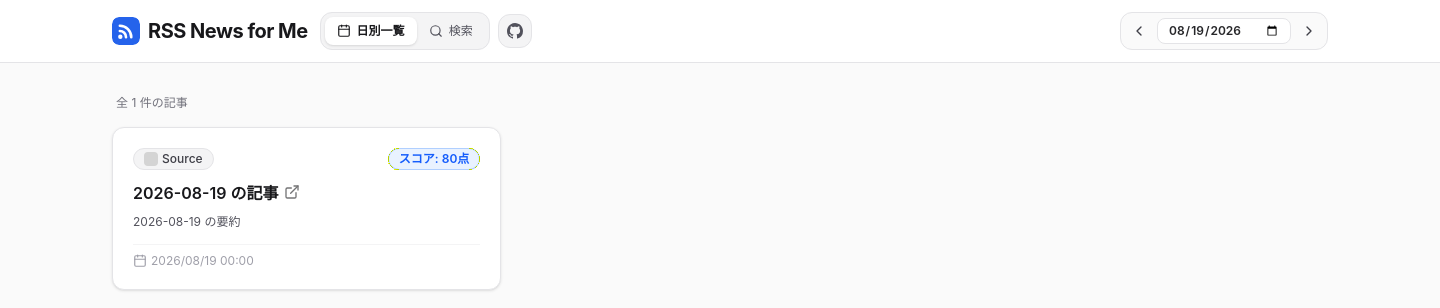
it: フロントエンド App コンポーネントのテスト › モバイルのページめくりによる日付移動 › 指を右から左へ動かすと翌日のページへ遷移すること
Check: the text "2026-08-19 の記事" is shown, box x1=133 y1=182 x2=278 y2=204
Press the mouse on the element with test id "daily-swipe-area" at (307, 192), box x1=112 y1=95 x2=501 y2=290
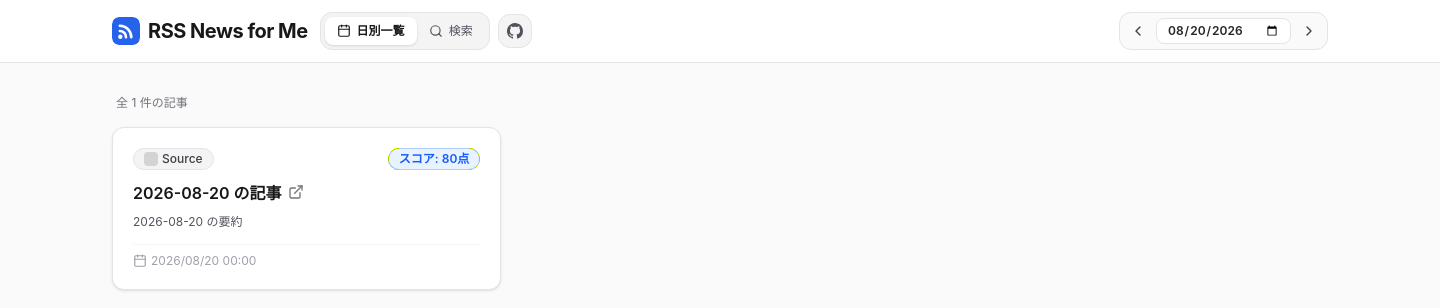
Check: the text "2026-08-20 の記事" is shown, box x1=133 y1=182 x2=282 y2=204
